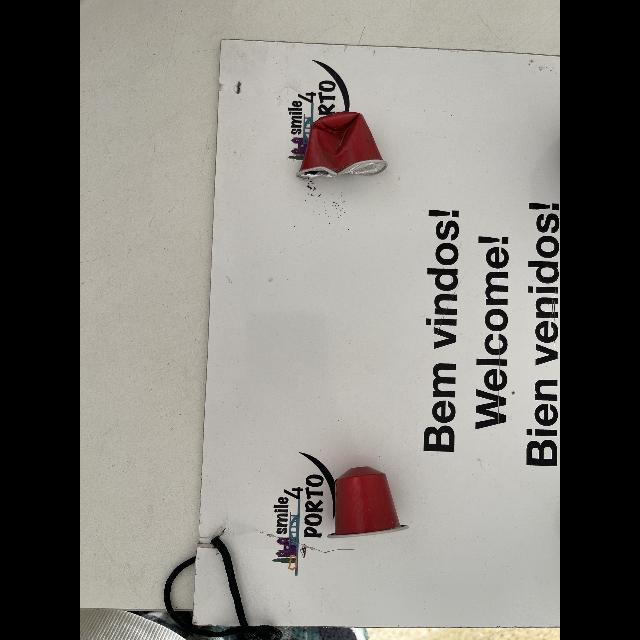damaged_capsule: (293, 104, 401, 184)
intact_capsule: (323, 466, 417, 540)
